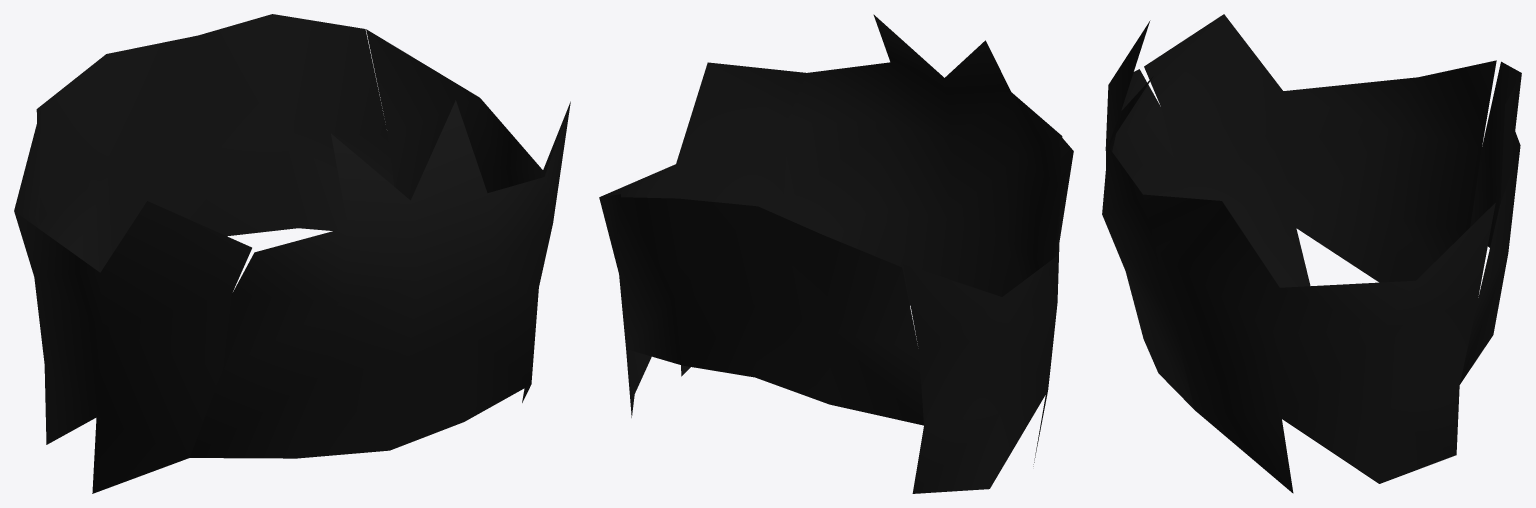
The model's file is spine1.glb.
The picture shows the model from 3 angles, left to right: view 1: azimuth 30°, elevation 25°; view 2: azimuth 150°, elevation 25°; view 3: azimuth 270°, elevation 25°; orthographic projection. The views are drawn at different scales.
Parts seen in each view (by area): view 1: polo-black_SPINE1; view 2: polo-black_SPINE1; view 3: polo-black_SPINE1.
Part boxes in pixels (bbox=[...]): polo-black_SPINE1: bbox=[14, 14, 570, 493]; polo-black_SPINE1: bbox=[599, 14, 1073, 493]; polo-black_SPINE1: bbox=[1102, 14, 1521, 493].
Bounding box in the file's own units: 0.3731 × 0.3036 × 0.3246.
Materials: 1 (1 with a texture image).
